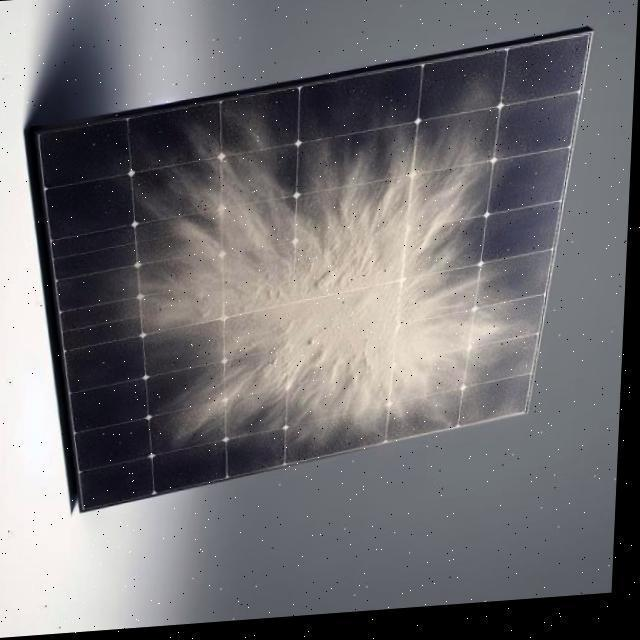Anomaly Solar Panel: (38, 43, 621, 517)
Surface Contaminant: (101, 61, 554, 499)
